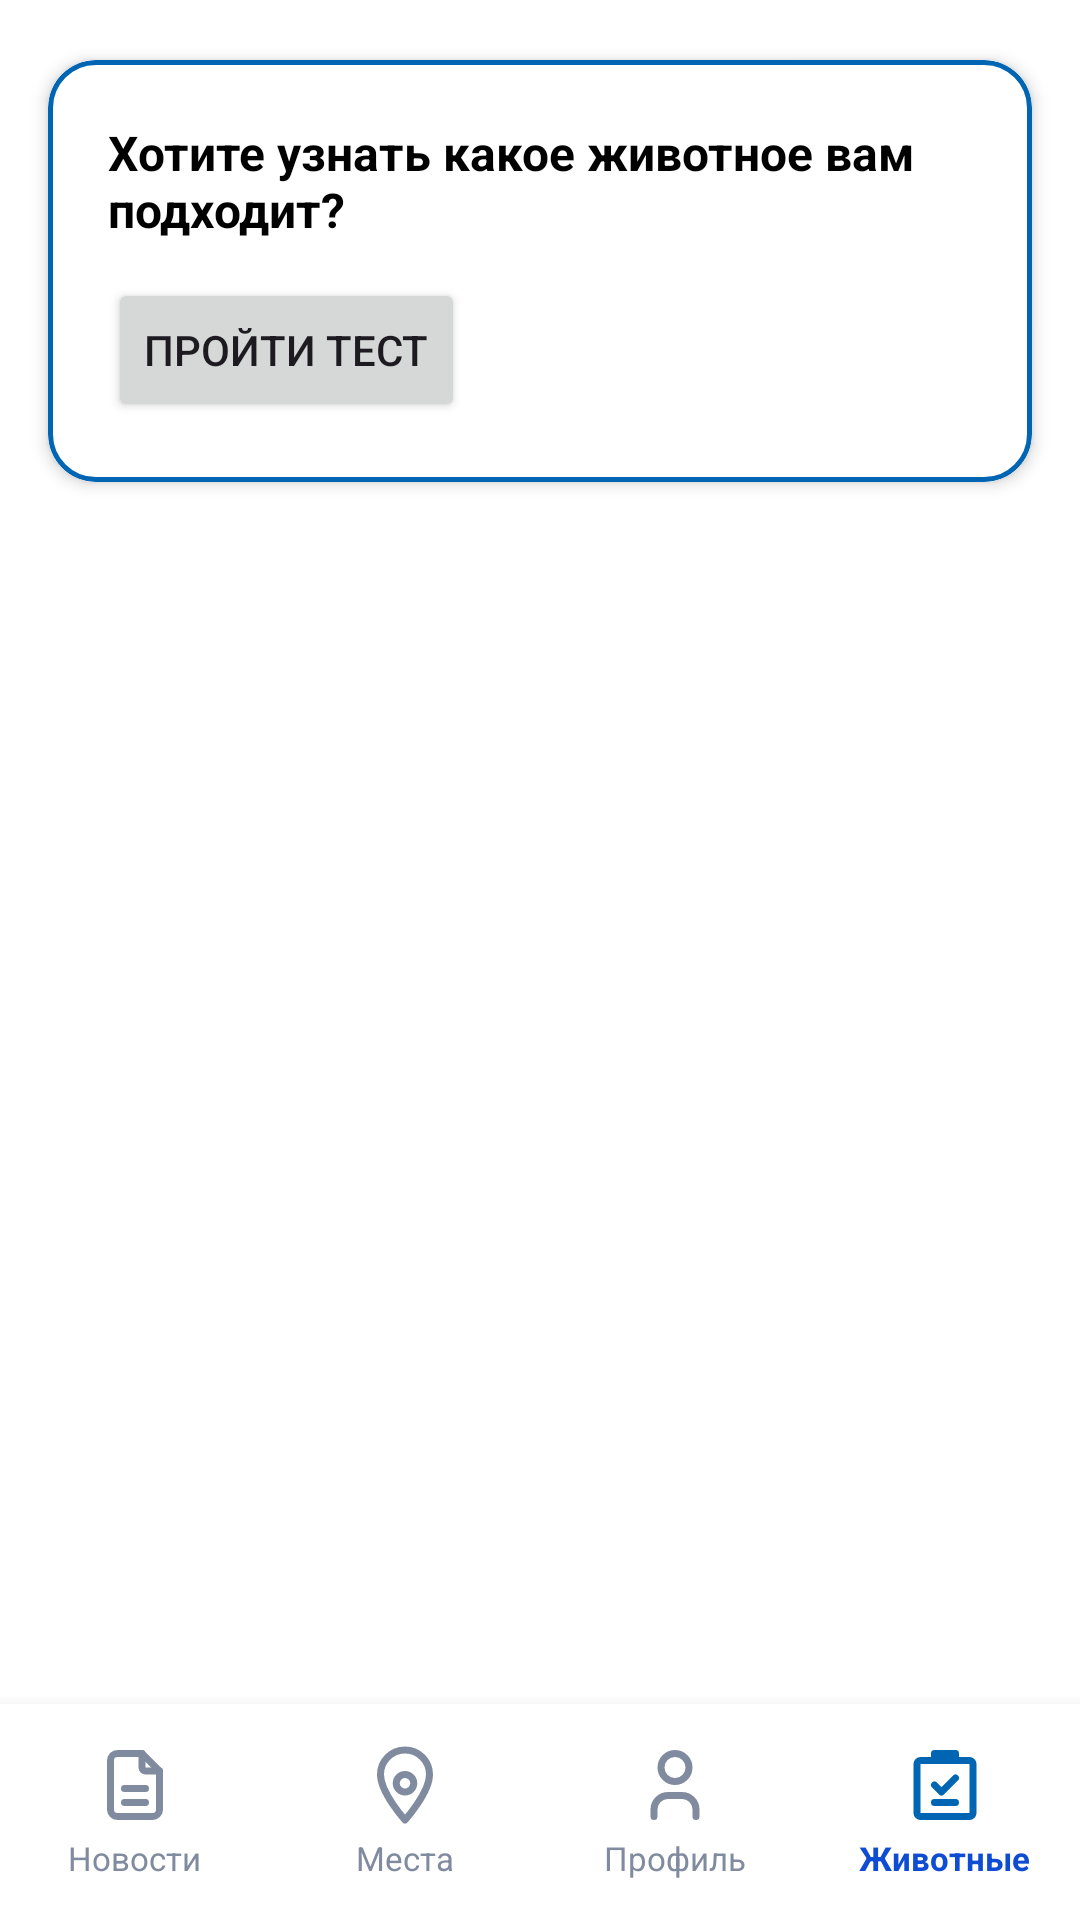

Locate icon controls on the screen. Image size 1080px x 1920px, boxes as [x1, y1, x2, y2].
surveyselected: [913, 1750, 977, 1820]
